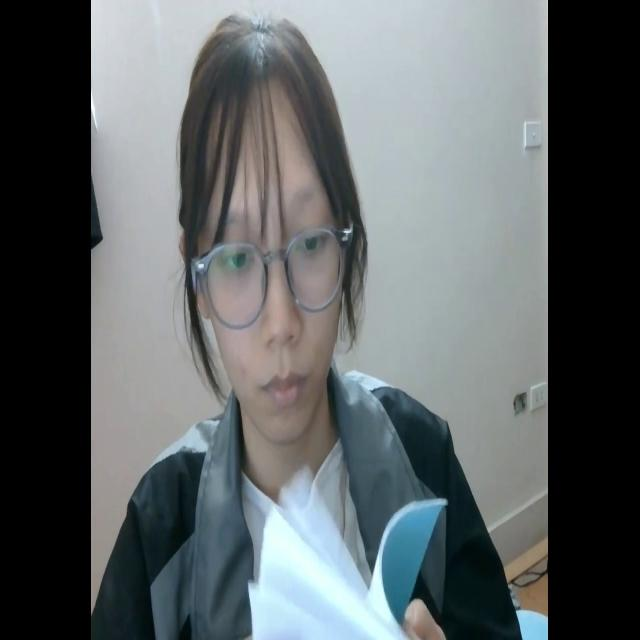book: (246, 463, 445, 640)
student: (103, 10, 516, 640)
